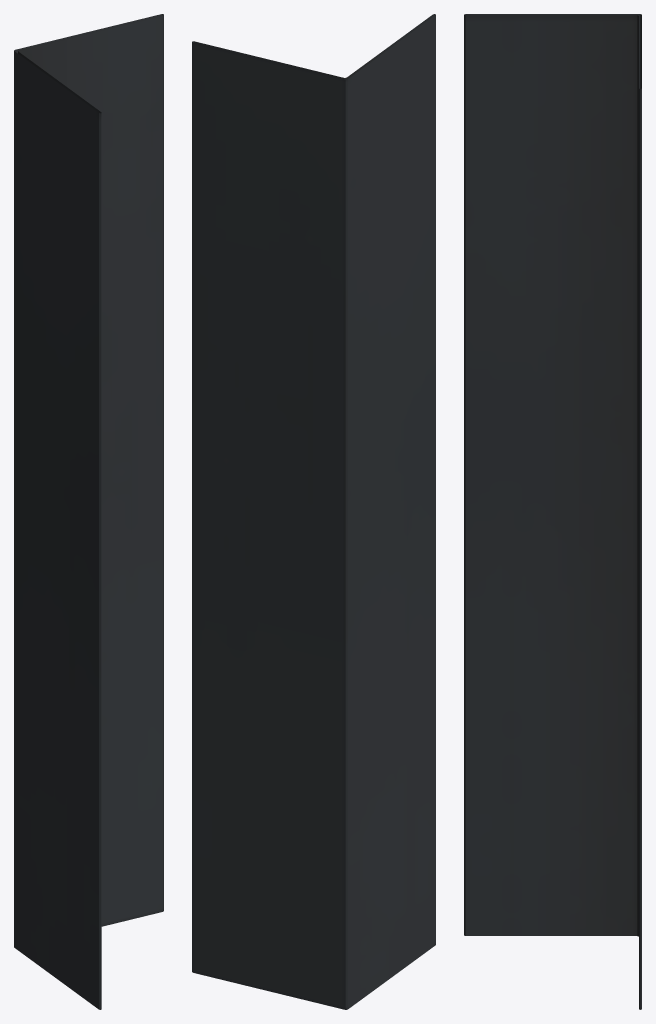
File: Wall_Corner.fbx
3 renders of one model, left to right at view 1: azimuth 30°, elevation 25°; view 2: azimuth 150°, elevation 25°; view 3: azimuth 270°, elevation 25°, orthographic. The views are drawn at different scales.
Visible parts, largest first — view 1: Wall_Corner_LOD0; view 2: Wall_Corner_LOD0; view 3: Wall_Corner_LOD0.
Part boxes in pixels (x1,y1,x2,y2): Wall_Corner_LOD0: (14,14,163,1009); Wall_Corner_LOD0: (192,14,435,1009); Wall_Corner_LOD0: (464,14,641,1009).
Size of the model in its own units: 0.175 by 1 by 0.175.
1 material, 1 textured.
